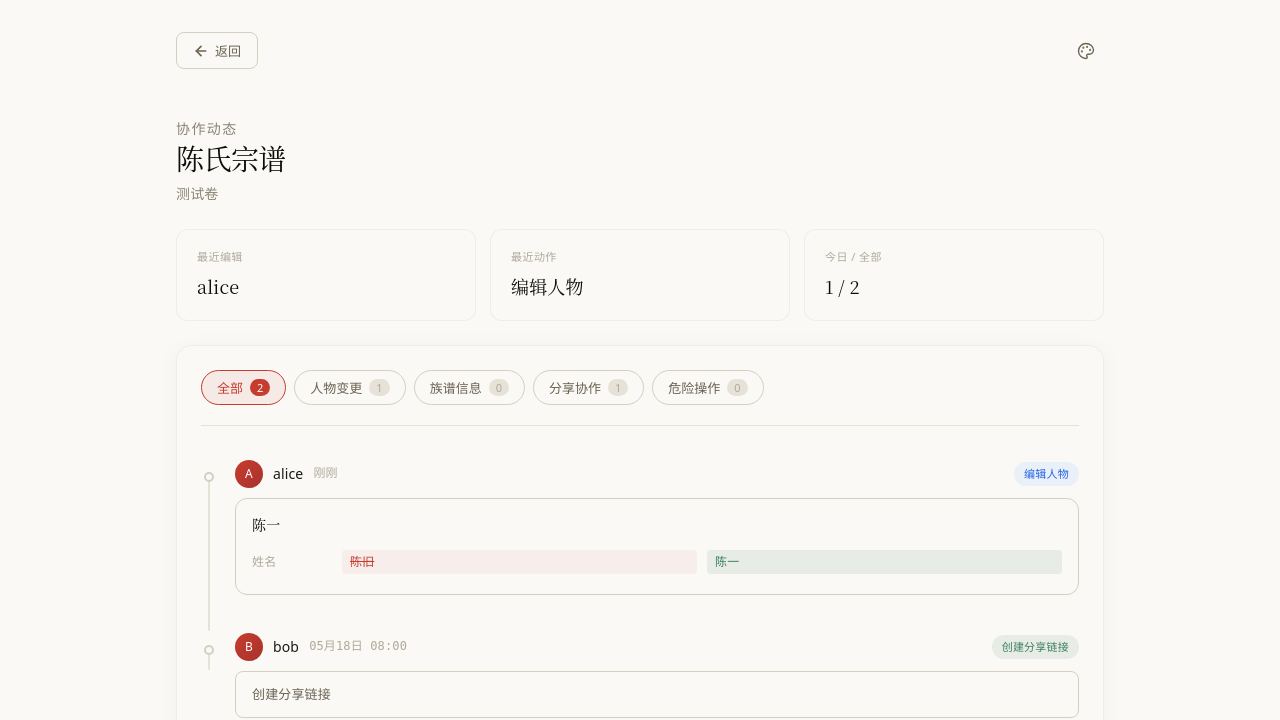
Test case: PublicationActivityView › filters activity without leaving the page
What coordinates should you click on to do the following:
click the button with test id "activity-filter-sharing"
I would click on:
 (589, 387)
Its box is left=533, top=370, right=644, bottom=405.
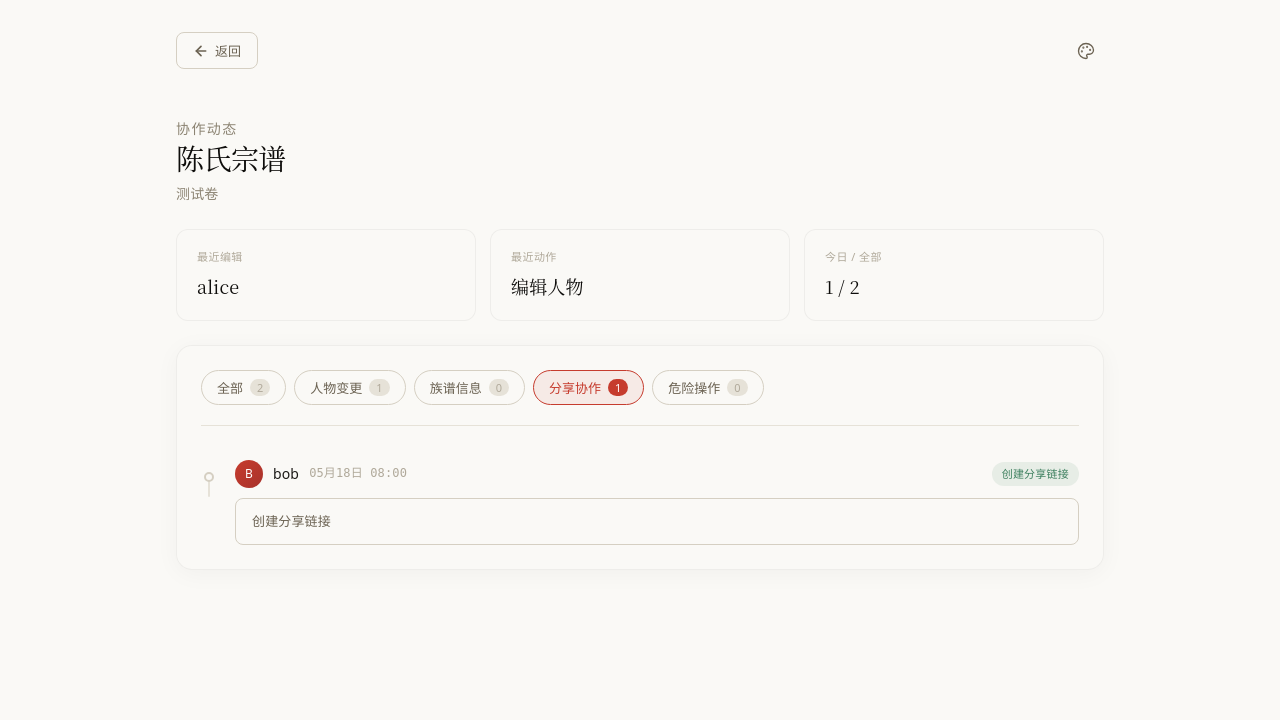
Check: the text "创建分享链接" is shown, box left=992, top=462, right=1079, bottom=486
Check: the text "陈一" is gone
